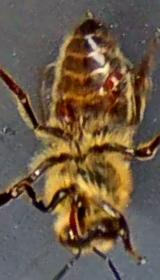varroa_mite: (94, 58, 128, 102), (57, 88, 83, 127)
